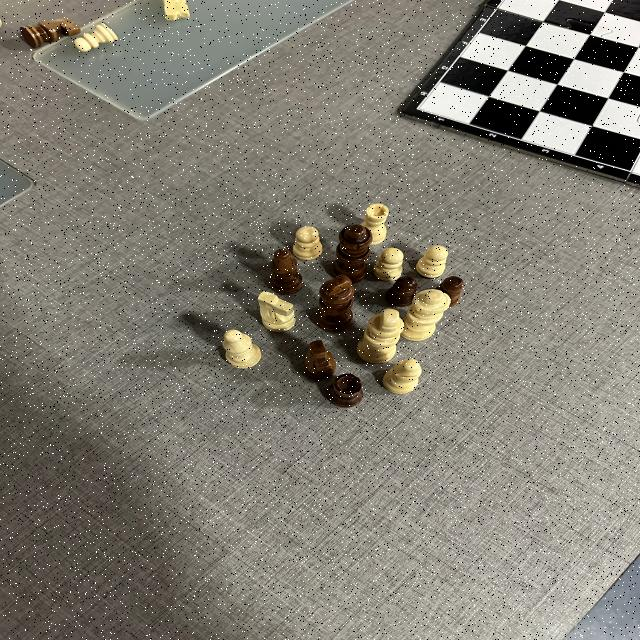Black-Bishop: (270, 249, 304, 295)
Black-King: (316, 274, 356, 333)
Black-Knight: (20, 18, 80, 49), (304, 340, 336, 381)
Black-Pawn: (385, 276, 417, 307), (436, 276, 464, 308)
Black-Queen: (330, 224, 372, 284)
Black-Rook: (326, 374, 364, 408)
White-Bishop: (222, 329, 262, 369), (382, 358, 422, 394)
White-Knight: (356, 308, 404, 364), (257, 291, 297, 333), (163, 0, 190, 21)
White-Pawn: (74, 22, 119, 52), (415, 244, 449, 278), (372, 248, 404, 282), (293, 227, 323, 260)
White-Queen: (399, 290, 452, 342)
White-Rook: (358, 203, 389, 246)
